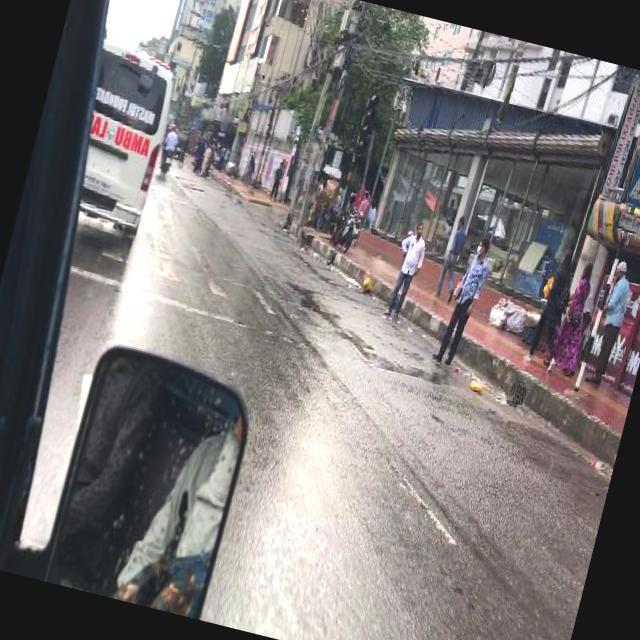motorcycle: (329, 208, 365, 254), (313, 175, 342, 232), (158, 123, 182, 176), (354, 185, 369, 210)
truck: (64, 37, 183, 241)
